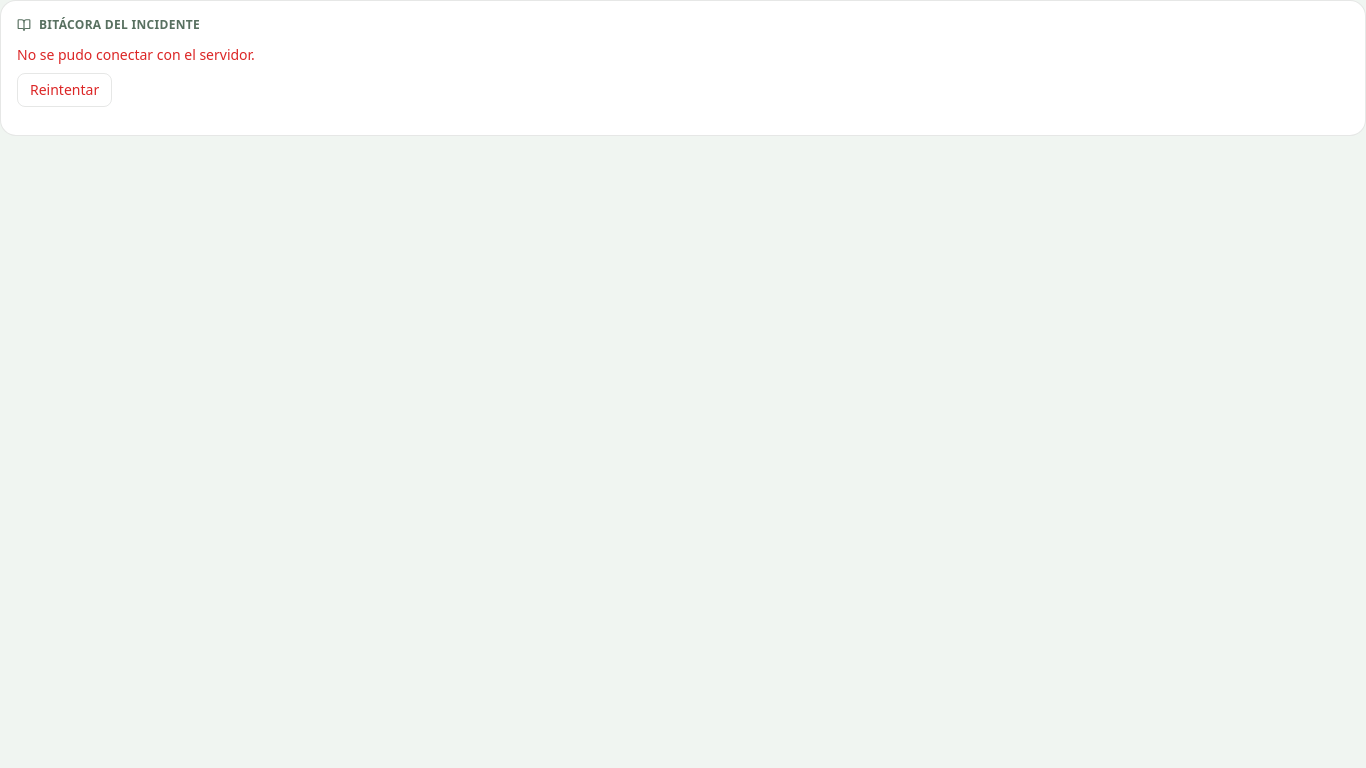
BitacoraIncidente (HU-41) › si la carga falla muestra el error y "Reintentar" vuelve a cargar
What coordinates should you click on to do the following:
click the button "Reintentar"
I would click on:
 (65, 90)
Its box is [17,73,112,107].
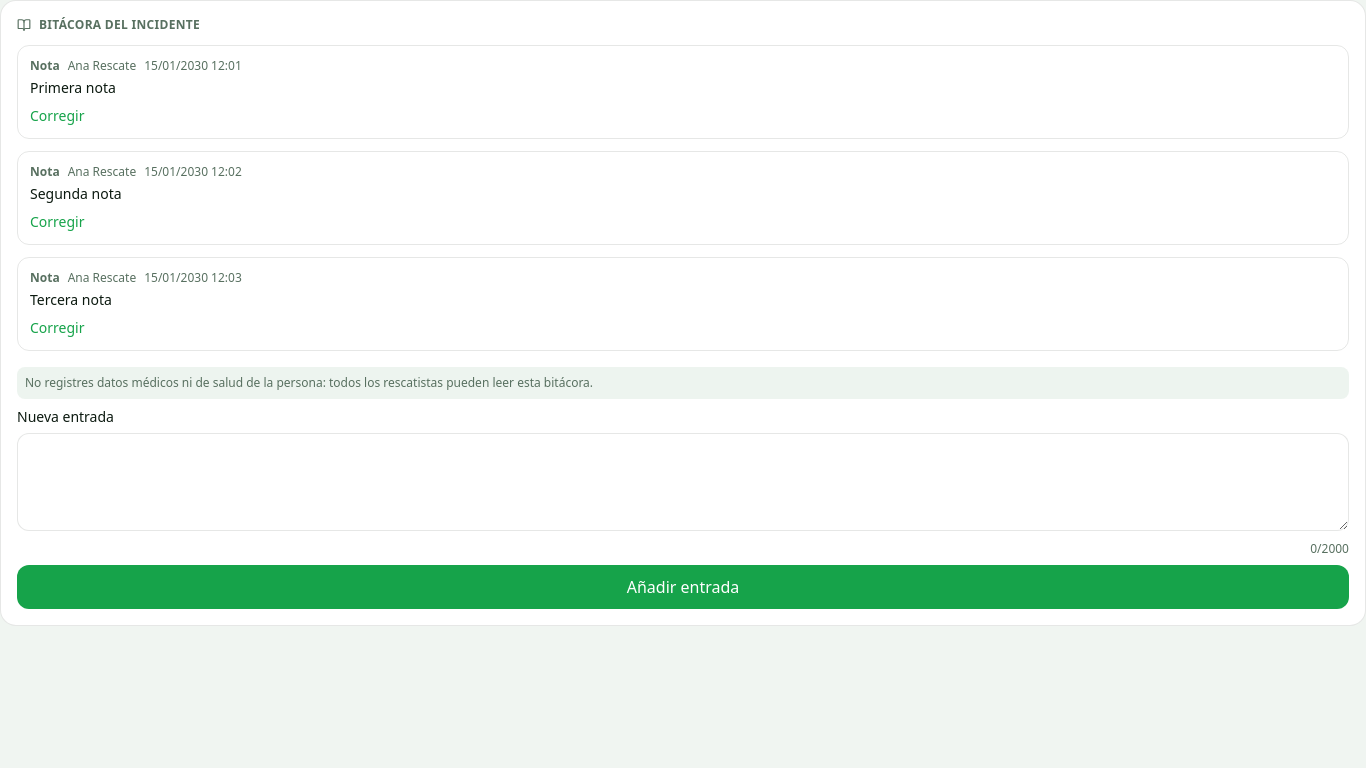
Result: the text "Primera nota" is shown at [30,78,116,97]
Result: the text "No se pudo conectar" is gone
